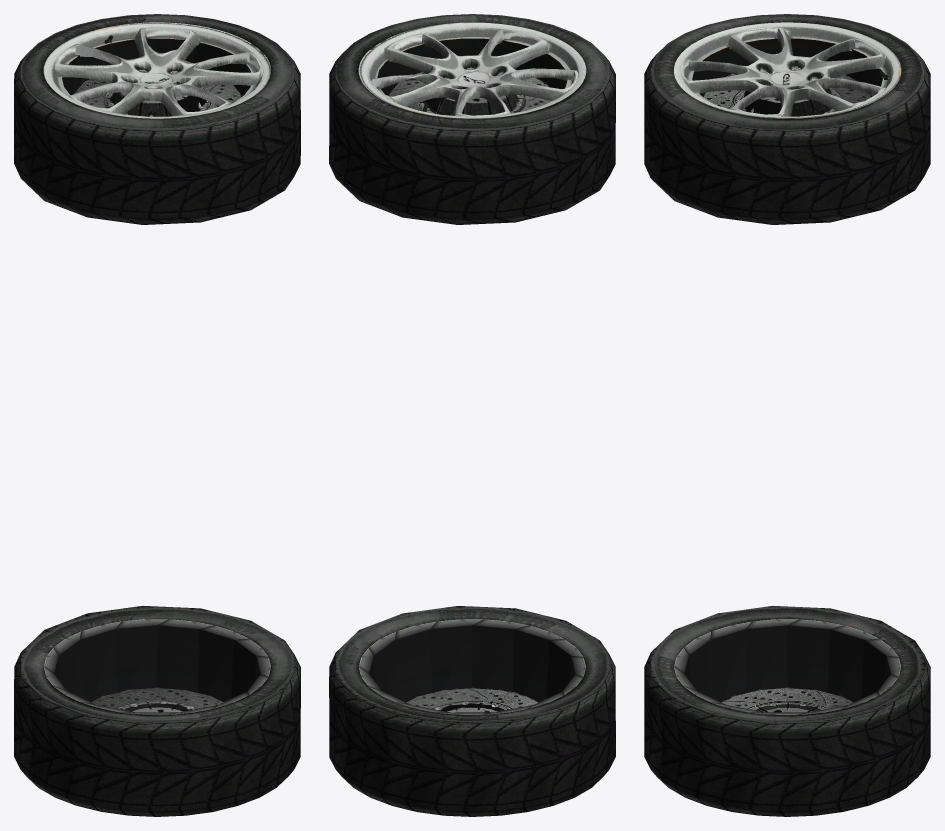
File: back_wheels.obj
3 views of the same model, side by side, from view 1: azimuth 30°, elevation 25°; view 2: azimuth 150°, elevation 25°; view 3: azimuth 270°, elevation 25° (orthographic).
Parts seen in each view (by area): view 1: tyre.002_tyre.004, tyre.001; view 2: tyre.001, tyre.002_tyre.004; view 3: tyre.001, tyre.002_tyre.004.
Boxes of the visible parts, x1=… form: tyre.002_tyre.004: x1=14, y1=606, x2=300, y2=816; tyre.001: x1=14, y1=14, x2=300, y2=224; tyre.001: x1=329, y1=14, x2=615, y2=224; tyre.002_tyre.004: x1=329, y1=606, x2=615, y2=816; tyre.001: x1=644, y1=14, x2=930, y2=224; tyre.002_tyre.004: x1=644, y1=606, x2=930, y2=816.
Bounding box in the file's own units: 2.79 × 7.4 × 2.77.
